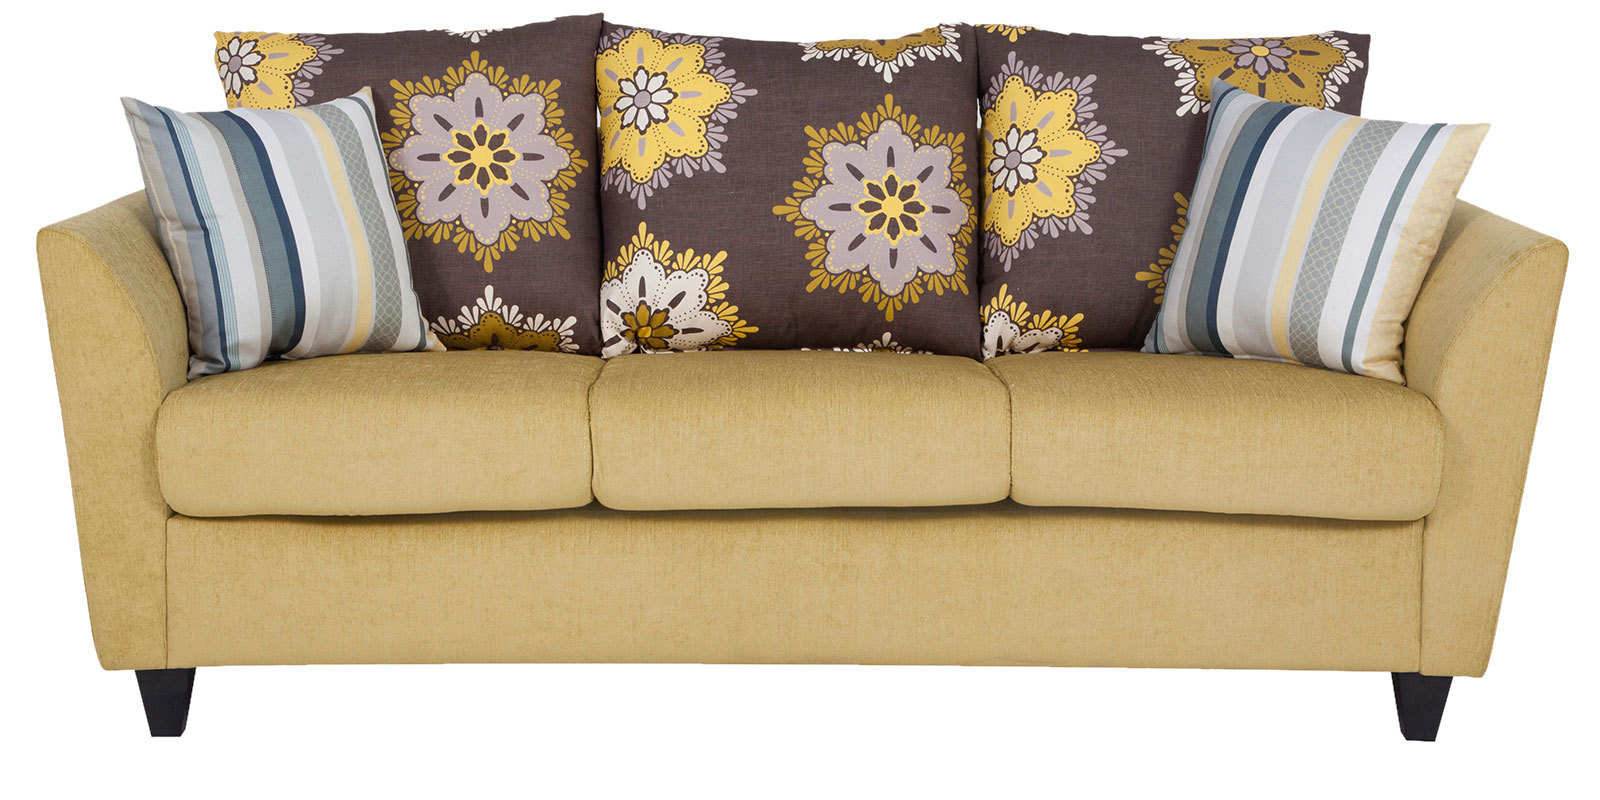Rio Brilliance Three Seater Sofa in Yellow Colour by Urban Living: (36, 9, 1567, 742)
